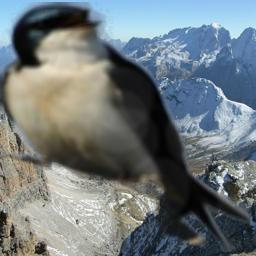Swallow: (0, 2, 252, 252)
